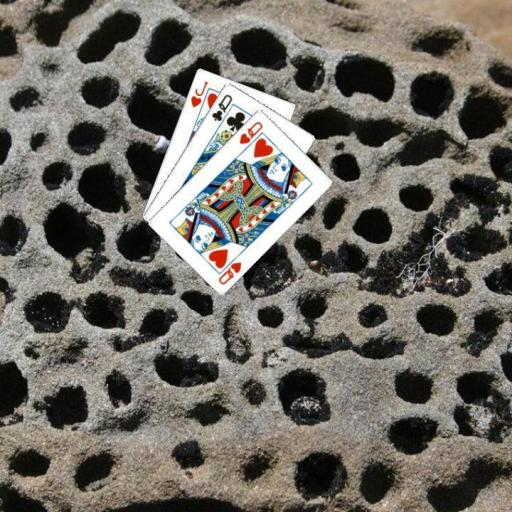card-corner: (215, 251, 243, 286), (208, 91, 234, 122), (236, 118, 264, 145), (187, 77, 209, 109)
